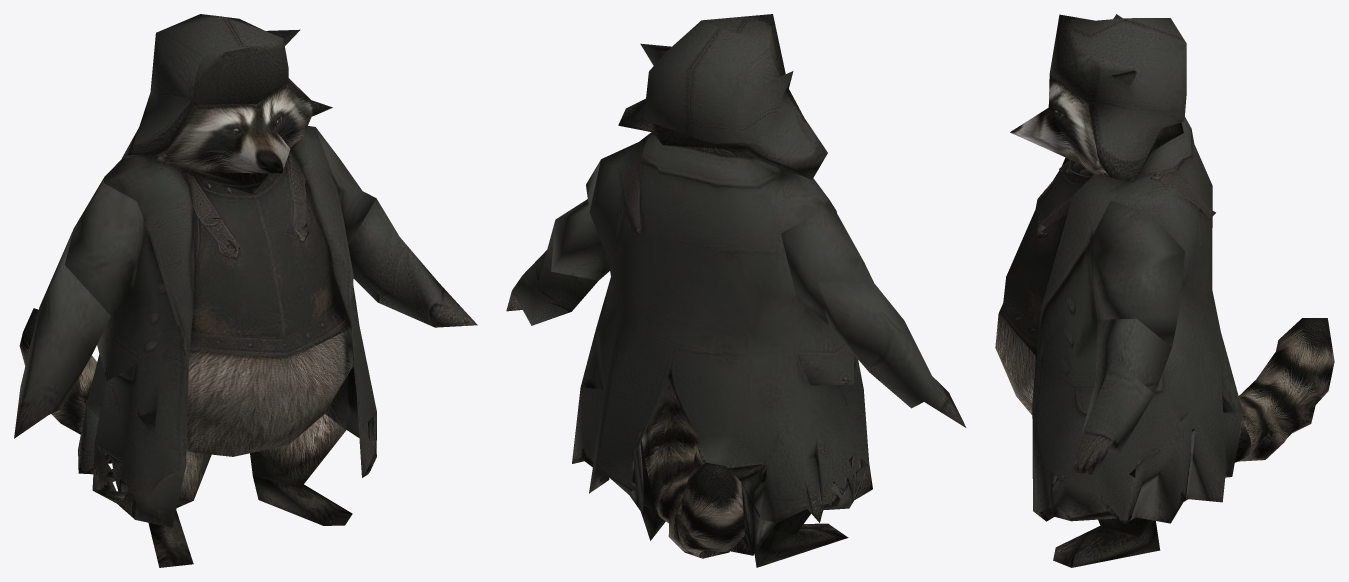
The model's file is infantry_hp_gibs.glb.
3 renders of one model, left to right at view 1: azimuth 30°, elevation 25°; view 2: azimuth 150°, elevation 25°; view 3: azimuth 270°, elevation 25°, orthographic.
Visible parts, largest first — view 1: Body.001, Hat.001, Head.001, Forarm.R.001, Forarm.L.001, Arm.R.001, Upleg.L.001, Leg.L.001, Arm.L.001, Leg.R.001, Upleg.R.001; view 2: Body.001, Hat.001, Forarm.R.001, Arm.R.001, Forarm.L.001, Arm.L.001, Leg.R.001; view 3: Body.001, Hat.001, Arm.L.001, Forarm.L.001, Head.001, Leg.L.001, Upleg.L.001.
Boxes of the visible parts, x1,y1,x2,y2 form: Body.001: (19, 126, 376, 527); Hat.001: (122, 14, 332, 158); Head.001: (152, 82, 311, 193); Forarm.R.001: (14, 229, 110, 438); Forarm.L.001: (348, 198, 477, 327); Arm.R.001: (65, 177, 146, 315); Upleg.L.001: (250, 414, 345, 487); Leg.L.001: (253, 476, 352, 525); Arm.L.001: (316, 128, 376, 245); Leg.R.001: (148, 510, 193, 567); Upleg.R.001: (113, 416, 211, 507); Body.001: (572, 132, 872, 558); Hat.001: (618, 14, 827, 179); Forarm.R.001: (818, 281, 966, 427); Arm.R.001: (781, 199, 873, 325); Forarm.L.001: (506, 221, 598, 325); Arm.L.001: (551, 160, 609, 280); Leg.R.001: (753, 506, 848, 567); Body.001: (995, 117, 1334, 523); Hat.001: (1049, 14, 1186, 182); Arm.L.001: (1087, 200, 1185, 346); Forarm.L.001: (1072, 318, 1171, 474); Head.001: (1010, 74, 1103, 177); Leg.L.001: (1053, 520, 1160, 567); Upleg.L.001: (1098, 501, 1153, 537).
Bounding box in the file's own units: 0.9217 × 0.9851 × 0.5977.
Materials: 2 (1 with a texture image).
